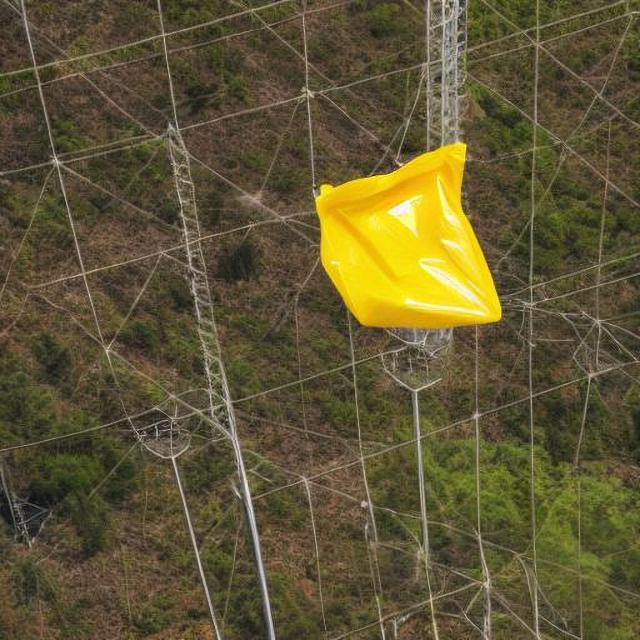floating object: (313, 143, 503, 332)
